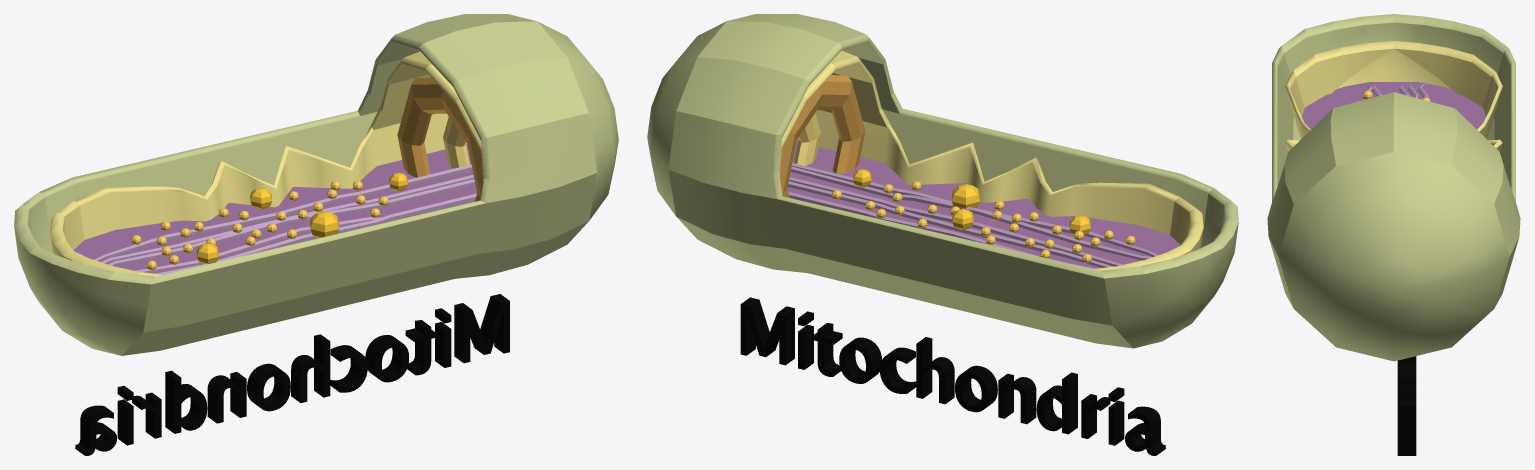
The model's file is Mitochondria Combine.fbx.
The picture shows the model from 3 angles, left to right: view 1: azimuth 30°, elevation 25°; view 2: azimuth 150°, elevation 25°; view 3: azimuth 270°, elevation 25°; orthographic projection. The views are drawn at different scales.
Visible parts, largest first — view 1: Mitochindria; view 2: Mitochindria; view 3: Mitochindria.
Boxes of the visible parts, x1=… form: Mitochindria: x1=14, y1=14, x2=618, y2=455; Mitochindria: x1=647, y1=14, x2=1238, y2=455; Mitochindria: x1=1267, y1=14, x2=1520, y2=455.
Size of the model in its own units: 4.98 by 2.8 by 1.96.
